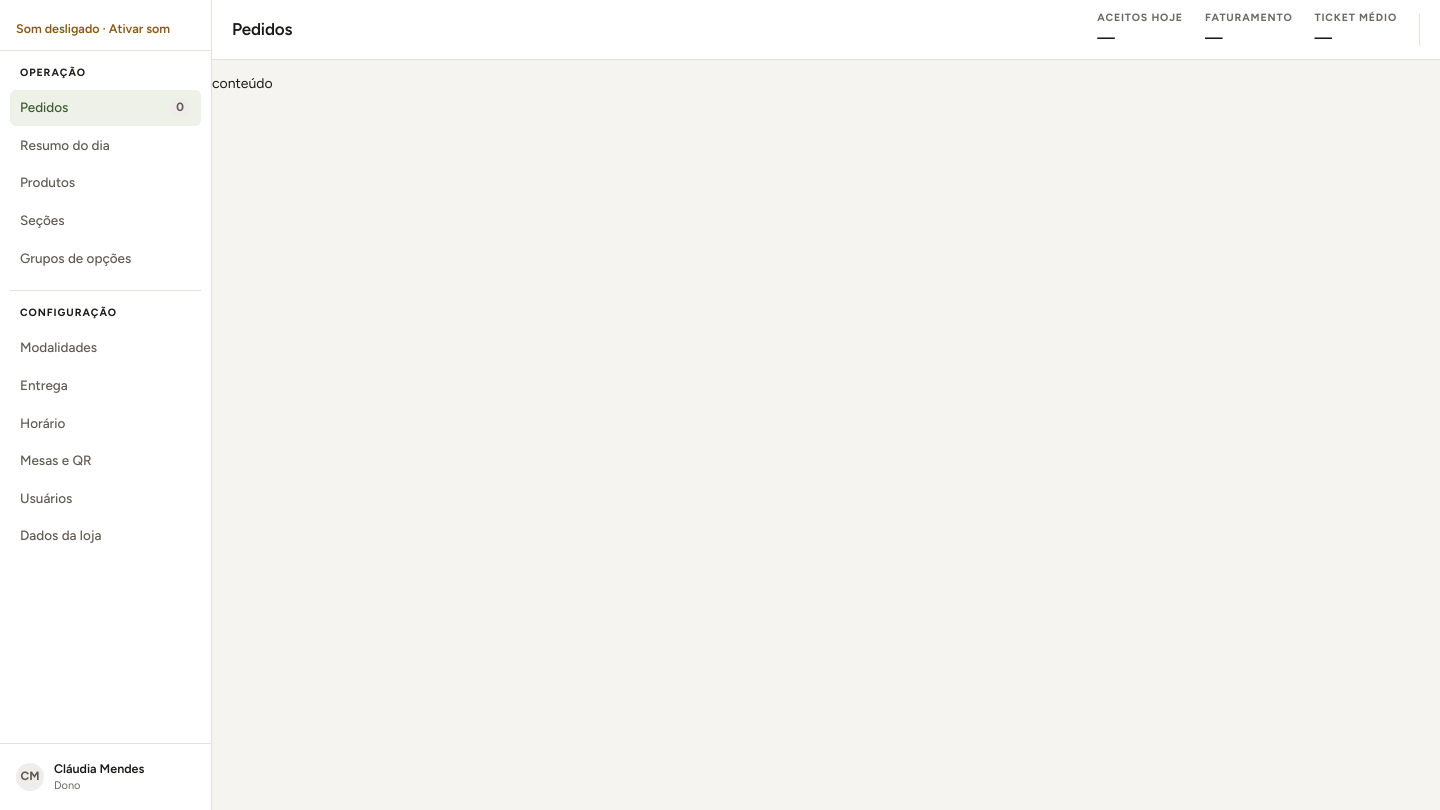
aviso de pedido novo › sem gesto na página, oferece ativar o som
Step 1. Click the button "Som desligado · Ativar som" → (93, 29), box [16,20,170,38]
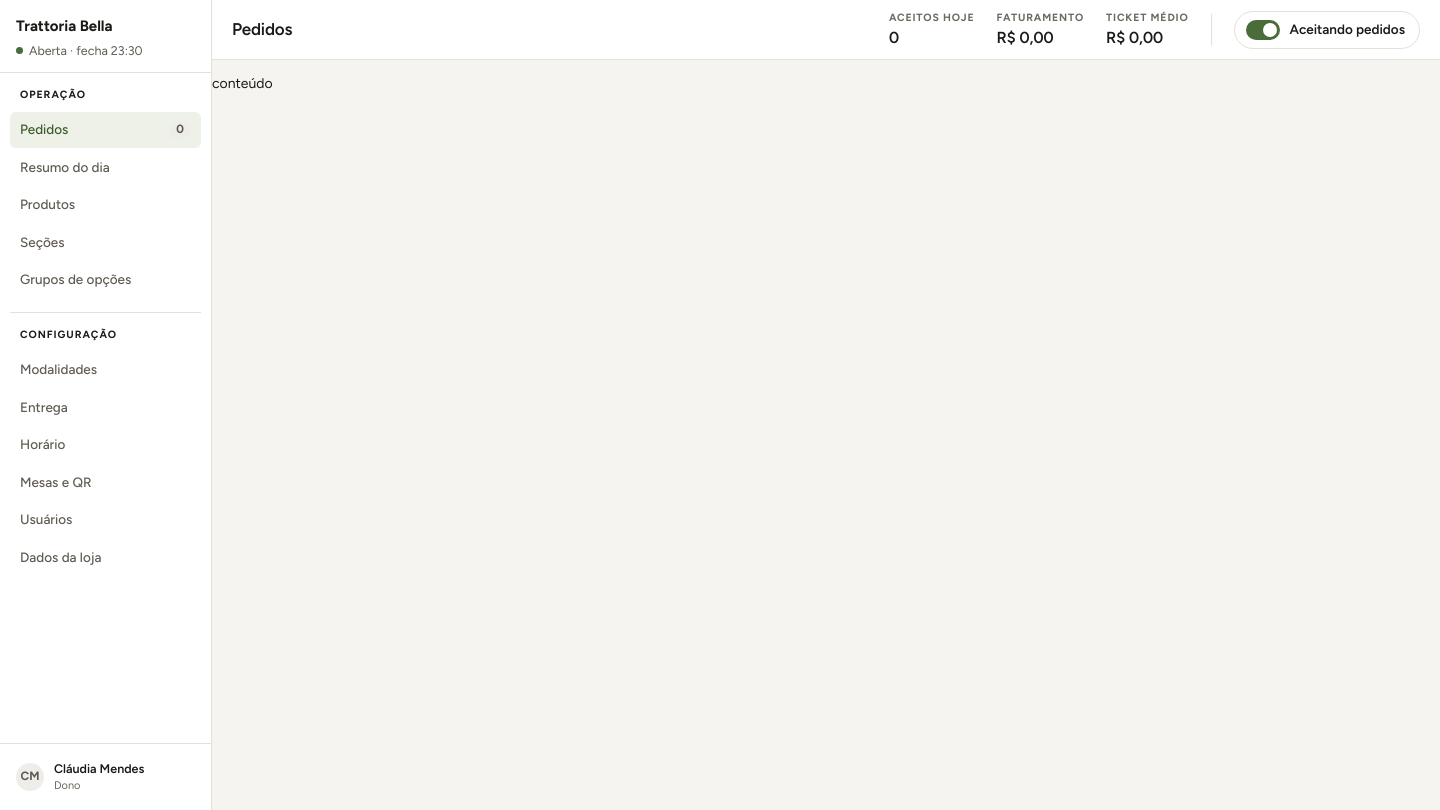
Expected: the button "Som desligado · Ativar som" is gone
